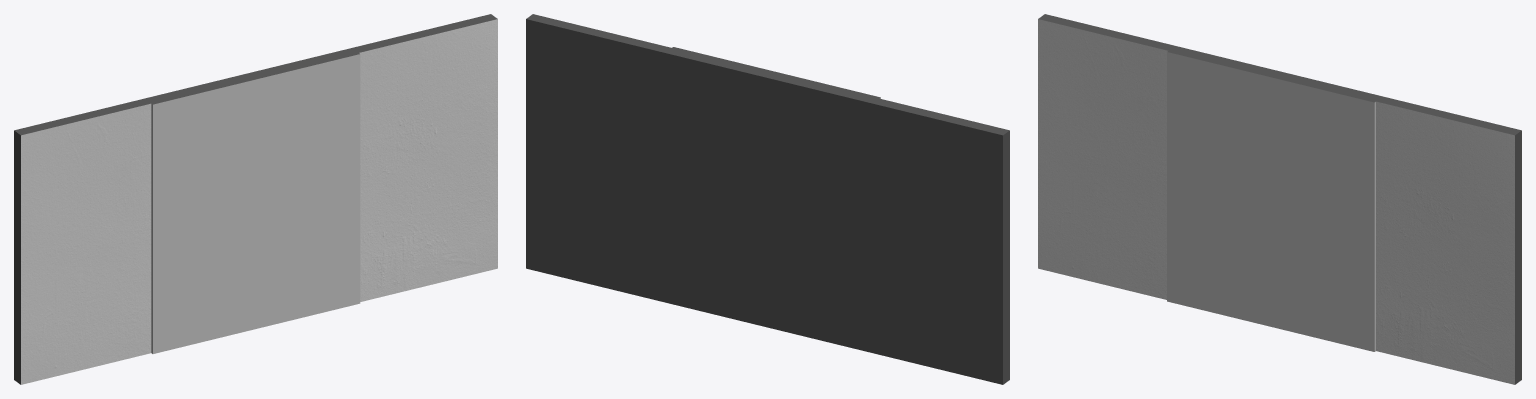
Rendered from Wall_4.fbx.
3 renders of one model, left to right at view 1: azimuth 30°, elevation 25°; view 2: azimuth 150°, elevation 25°; view 3: azimuth 330°, elevation 25°, orthographic.
Visible parts, largest first — view 1: Wall_4; view 2: Wall_4; view 3: Wall_4.
Boxes of the visible parts, bbox=[...] form: Wall_4: bbox=[14, 14, 497, 384]; Wall_4: bbox=[526, 14, 1009, 384]; Wall_4: bbox=[1038, 14, 1521, 384].
Bounding box in the file's own units: 400 × 200 × 12.13.
